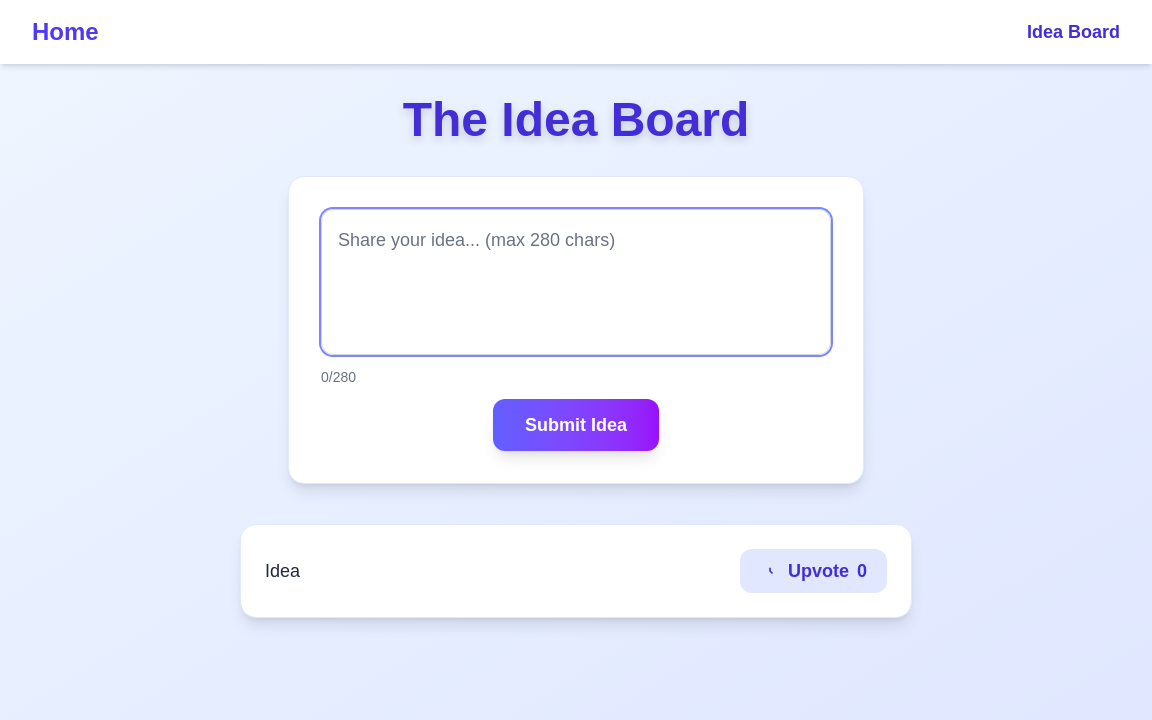
Test: IdeaBoard Page › shows error on failed upvote
Expected: the text "Idea" is shown, [265,561,300,581]
What coordinates should you click on to do the following:
click the button "Upvote 0"
I would click on:
 (814, 571)
Its box is [740,549,887,593].
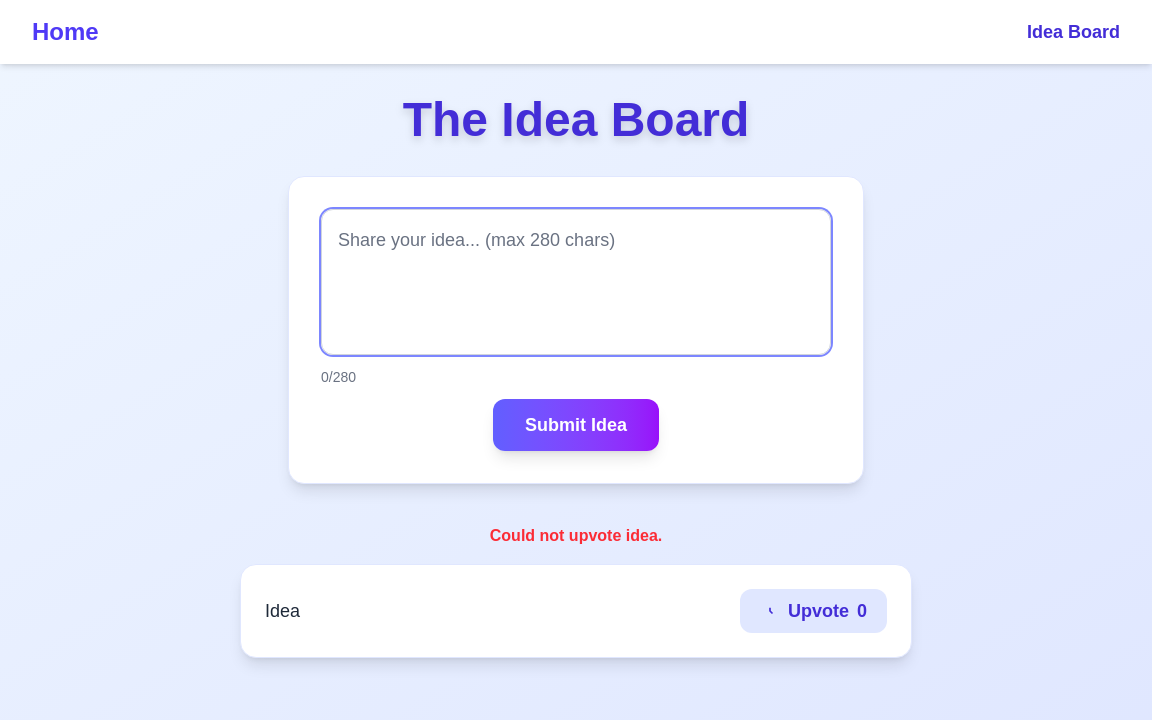
Expected: the text "Could not upvote idea." is shown, [490,524,662,548]
